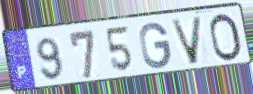5: (103, 26, 136, 75)
7: (67, 28, 98, 80)
9: (34, 35, 65, 82)
G: (138, 21, 173, 71)
O: (208, 12, 245, 64)
V: (169, 15, 205, 67)
